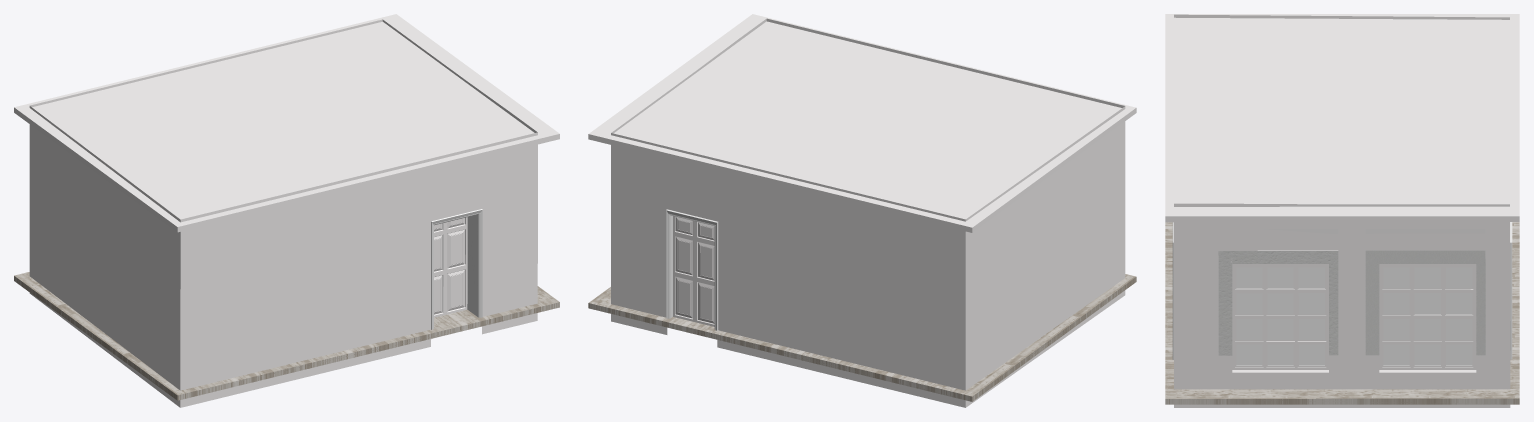
File: FloorPlan209_physics.fbx
3 renders of one model, left to right at view 1: azimuth 30°, elevation 25°; view 2: azimuth 150°, elevation 25°; view 3: azimuth 270°, elevation 25°, orthographic. The views are drawn at different scales.
Visible parts, largest first — view 1: FP209:Cube.916, FP209:Cube.935, FP209:Cube.934, FP209:Cube.933, FP209:polySurface81, FP209:polySurface80; view 2: FP209:Cube.916, FP209:Cube.935, FP209:Cube.934, FP209:polySurface78, FP209:polySurface79, FP209:Cube.933; view 3: FP209:Cube.935, FP209:Cube.916, FP209:Cube.934, FP209:polySurface45, FP209:polySurface70, FP209:polySurface2, FP209:polySurface1, FP209:Cube.933.
Boxes of the visible parts, bbox=[...] form: FP209:Cube.916: bbox=[29, 19, 537, 407]; FP209:Cube.935: bbox=[14, 14, 559, 232]; FP209:Cube.934: bbox=[14, 272, 559, 400]; FP209:Cube.933: bbox=[431, 209, 482, 329]; FP209:polySurface81: bbox=[445, 217, 467, 314]; FP209:polySurface80: bbox=[434, 222, 445, 317]; FP209:Cube.916: bbox=[611, 18, 1125, 407]; FP209:Cube.935: bbox=[588, 14, 1136, 232]; FP209:Cube.934: bbox=[588, 274, 1136, 401]; FP209:polySurface78: bbox=[673, 216, 694, 321]; FP209:polySurface79: bbox=[695, 221, 714, 326]; FP209:Cube.933: bbox=[666, 209, 718, 330]; FP209:Cube.935: bbox=[1165, 14, 1519, 222]; FP209:Cube.916: bbox=[1174, 14, 1510, 407]; FP209:Cube.934: bbox=[1165, 222, 1519, 404]; FP209:polySurface45: bbox=[1383, 267, 1472, 365]; FP209:polySurface70: bbox=[1236, 267, 1324, 365]; FP209:polySurface2: bbox=[1232, 264, 1328, 369]; FP209:polySurface1: bbox=[1379, 264, 1476, 369]; FP209:Cube.933: bbox=[1172, 222, 1512, 359].
Bounding box in the file's own units: 8.41 × 3.96 × 6.23.
